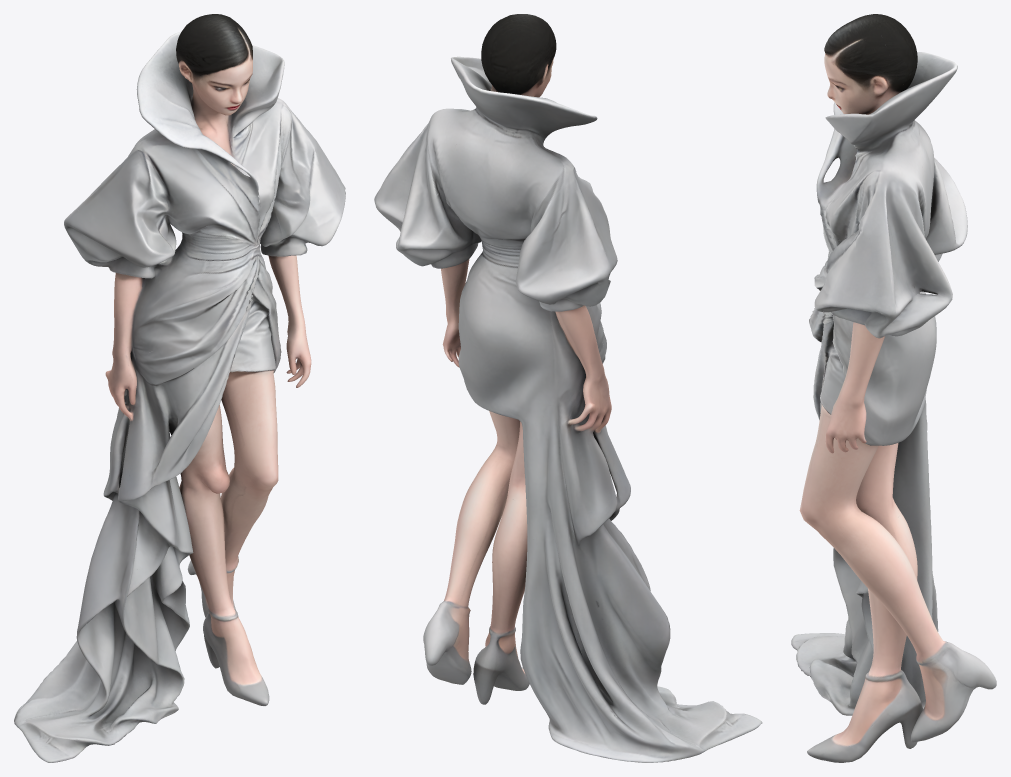
Rendered from artifex-hero-shaded.glb.
3 views of the same model, side by side, from view 1: azimuth 30°, elevation 25°; view 2: azimuth 150°, elevation 25°; view 3: azimuth 270°, elevation 25° (orthographic). The views are drawn at different scales.
Visible parts, largest first — view 1: model; view 2: model; view 3: model.
Part boxes in pixels (x1,y1,x2,y2): model: [14, 14, 345, 762]; model: [374, 14, 762, 762]; model: [791, 14, 996, 762].
Size of the model in its own units: 1 by 1.9 by 0.4859.
1 material, 1 textured.
